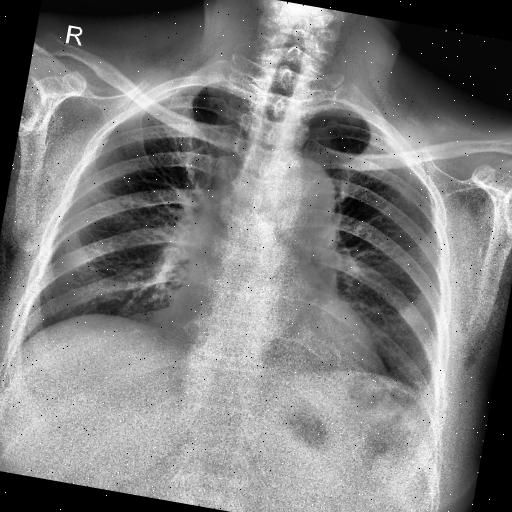0- Aortic enlargement: (239, 148, 344, 266), (259, 152, 340, 240), (265, 151, 340, 238)
3- Cardiomegaly: (151, 290, 397, 390)
